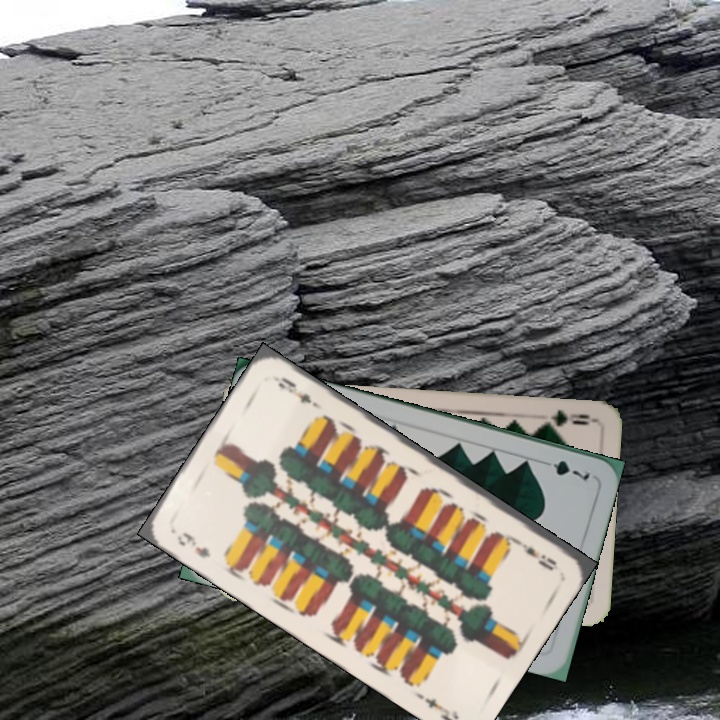E9: (510, 534, 561, 574), (173, 528, 213, 561)
G7: (536, 455, 593, 483)
G9: (538, 405, 596, 429)
